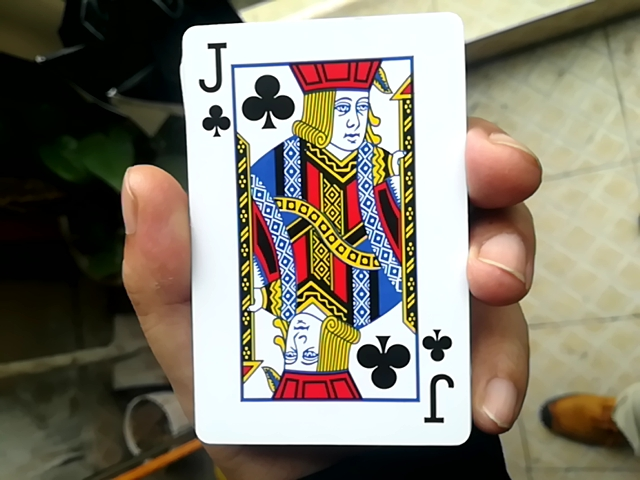mh j: (173, 2, 472, 436)
